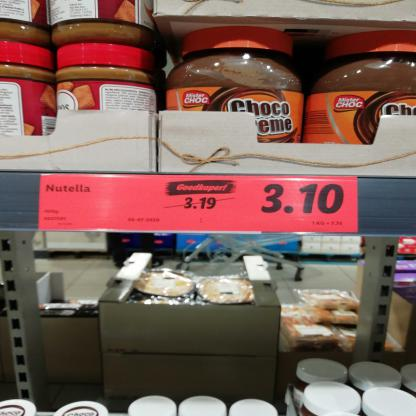prtg: (39, 175, 358, 234)
